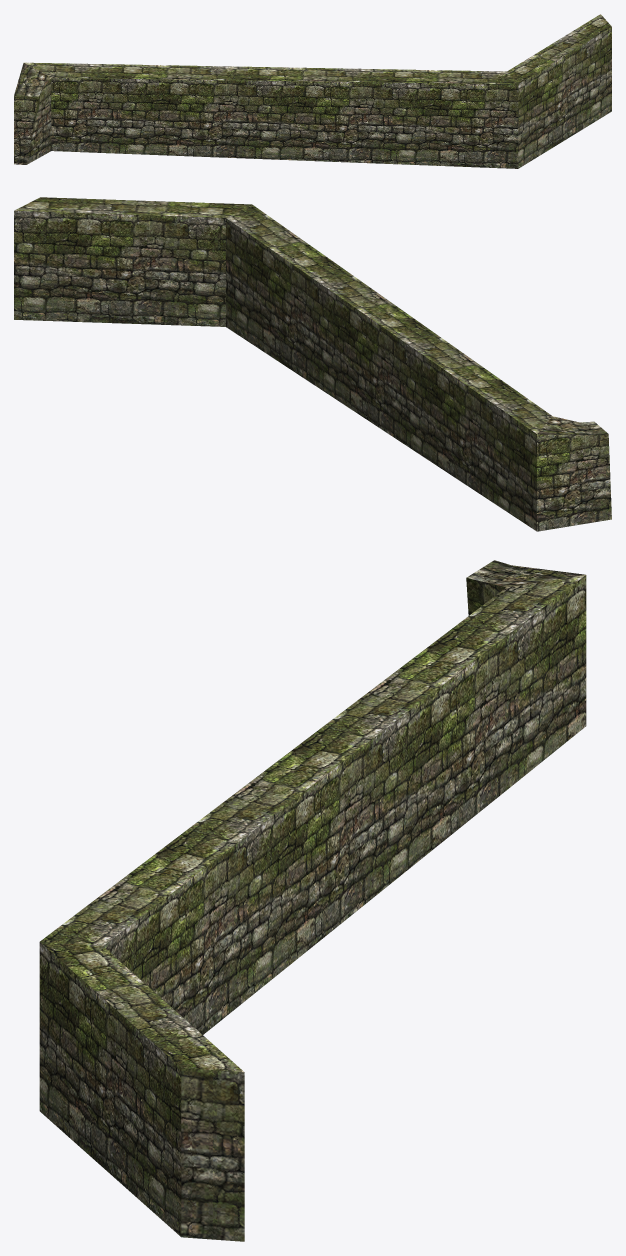
The picture shows the model from 3 angles, top to bottom: view 1: azimuth 30°, elevation 25°; view 2: azimuth 150°, elevation 25°; view 3: azimuth 270°, elevation 25°; orthographic projection. The views are drawn at different scales.
Parts seen in each view (by area): view 1: TN2_W02-col; view 2: TN2_W02-col; view 3: TN2_W02-col.
Boxes of the visible parts, x1,y1,x2,y2 form: TN2_W02-col: [14, 14, 611, 168]; TN2_W02-col: [14, 197, 611, 531]; TN2_W02-col: [39, 560, 586, 1241].
Bounding box in the file's own units: 20.15 × 3.43 × 9.08.
Materials: 2 (2 with a texture image).
